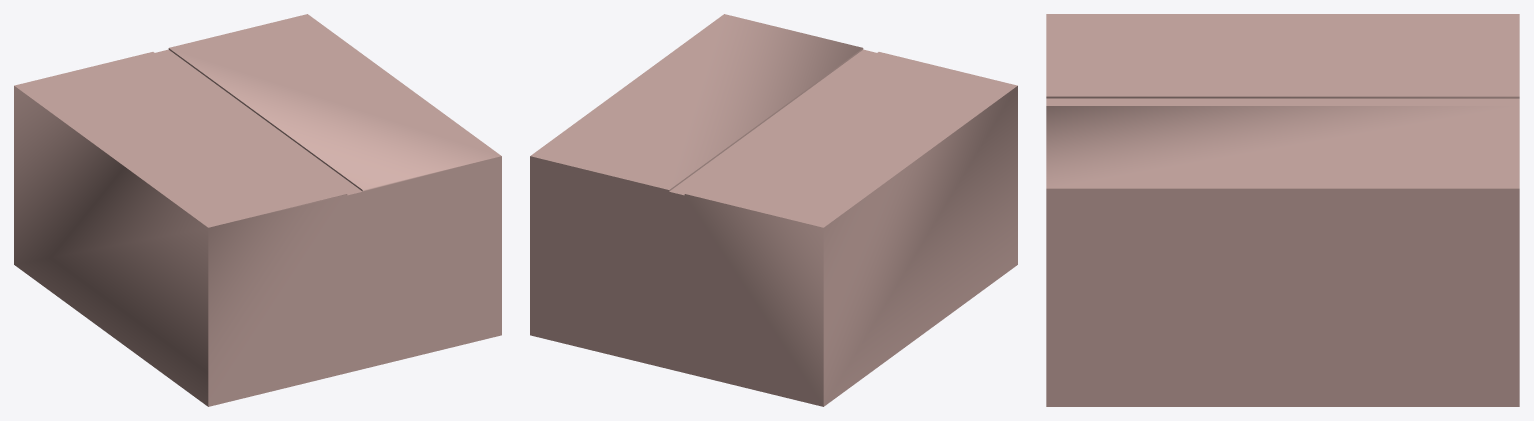
3 renders of one model, left to right at view 1: azimuth 30°, elevation 25°; view 2: azimuth 150°, elevation 25°; view 3: azimuth 270°, elevation 25°, orthographic. The views are drawn at different scales.
Visible parts, largest first — view 1: Box_L; view 2: Box_L; view 3: Box_L.
Part boxes in pixels (x1,y1,x2,y2): Box_L: (14,14,501,406); Box_L: (530,14,1017,406); Box_L: (1046,14,1519,406).
Size of the model in its own units: 48 by 28 by 55.
